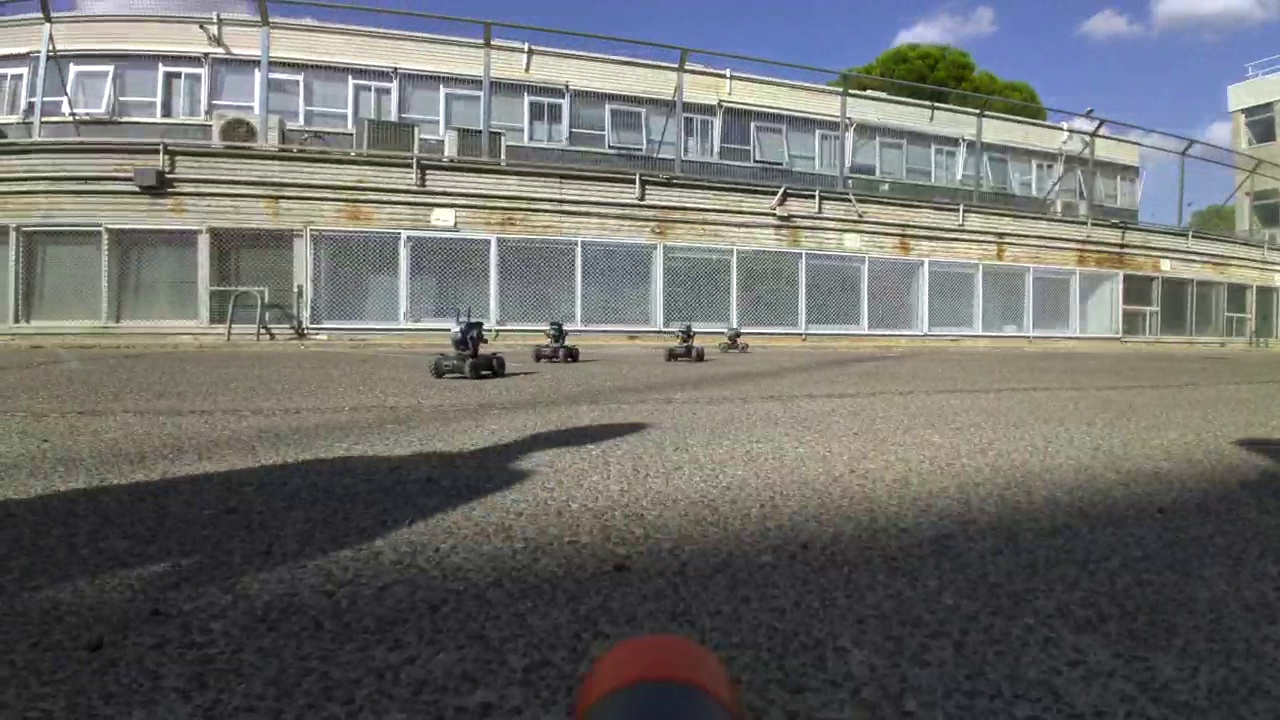robot: (431, 308, 509, 380), (535, 316, 580, 364), (663, 323, 707, 364), (718, 313, 750, 355)
